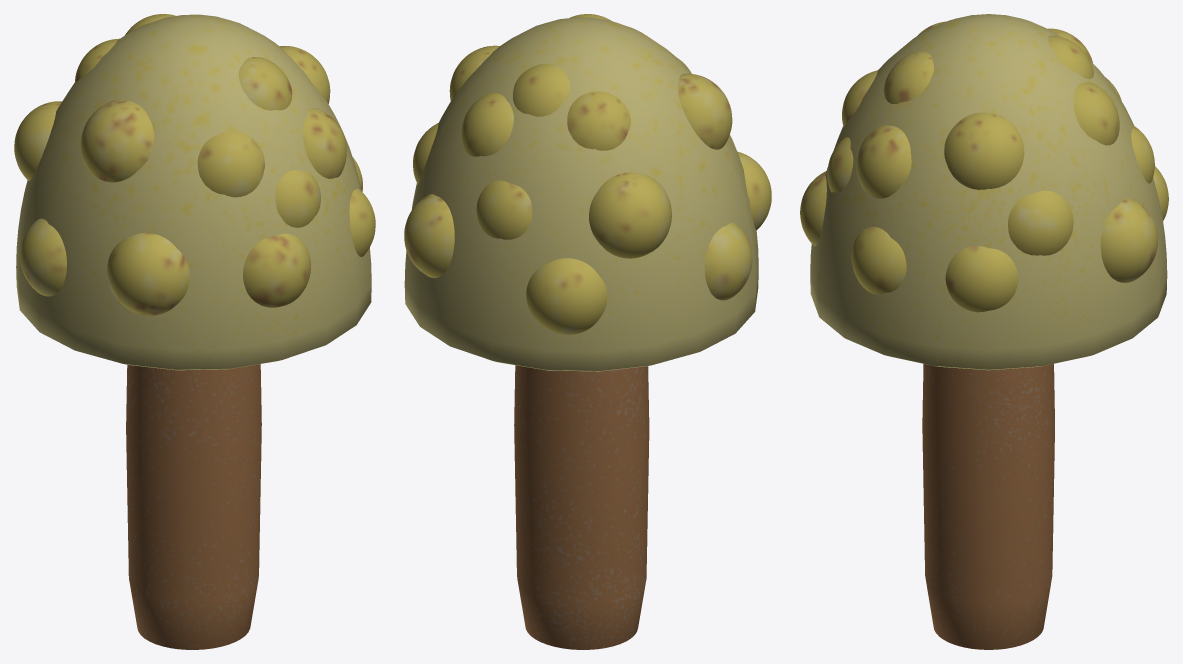
The model's file is MushroomModelTextured.fbx.
3 views of the same model, side by side, from view 1: azimuth 30°, elevation 25°; view 2: azimuth 150°, elevation 25°; view 3: azimuth 270°, elevation 25° (orthographic).
Parts seen in each view (by area): view 1: combined1; view 2: combined1; view 3: combined1.
Boxes of the visible parts, box(x1,y1,x2,y2) form: combined1: box(14, 14, 375, 649); combined1: box(404, 14, 771, 649); combined1: box(800, 14, 1168, 649).
Bounding box in the file's own units: 2 × 3.52 × 1.96.
